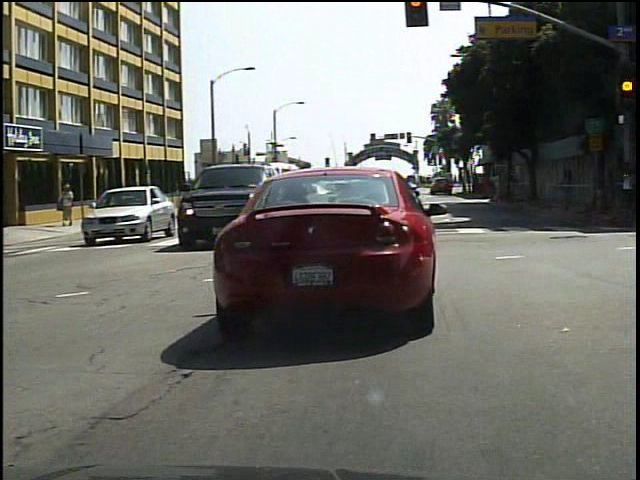person: (59, 179, 81, 228)
